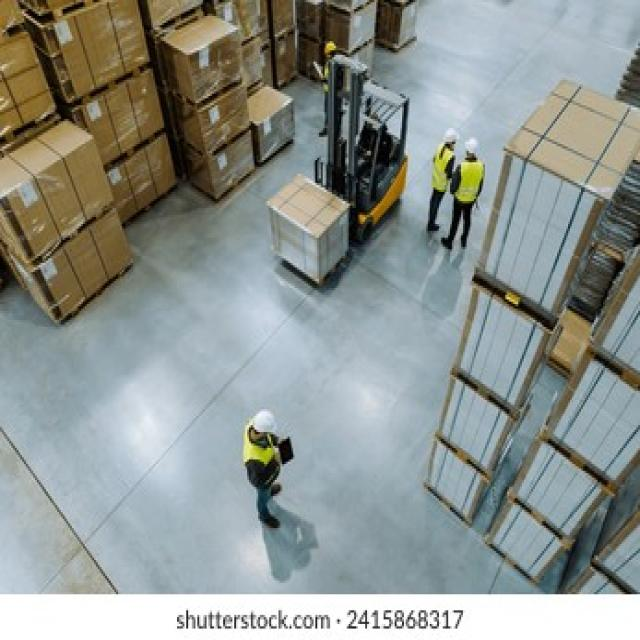box: (2, 198, 165, 320), (514, 90, 593, 306), (0, 126, 133, 246), (435, 348, 529, 486), (472, 263, 546, 421), (260, 178, 365, 286), (566, 338, 636, 490), (529, 417, 598, 569), (51, 7, 159, 99), (497, 465, 568, 586), (102, 131, 195, 220), (76, 80, 182, 152), (428, 413, 486, 533), (240, 73, 318, 155), (170, 20, 252, 92), (185, 80, 262, 151), (204, 132, 272, 208)
